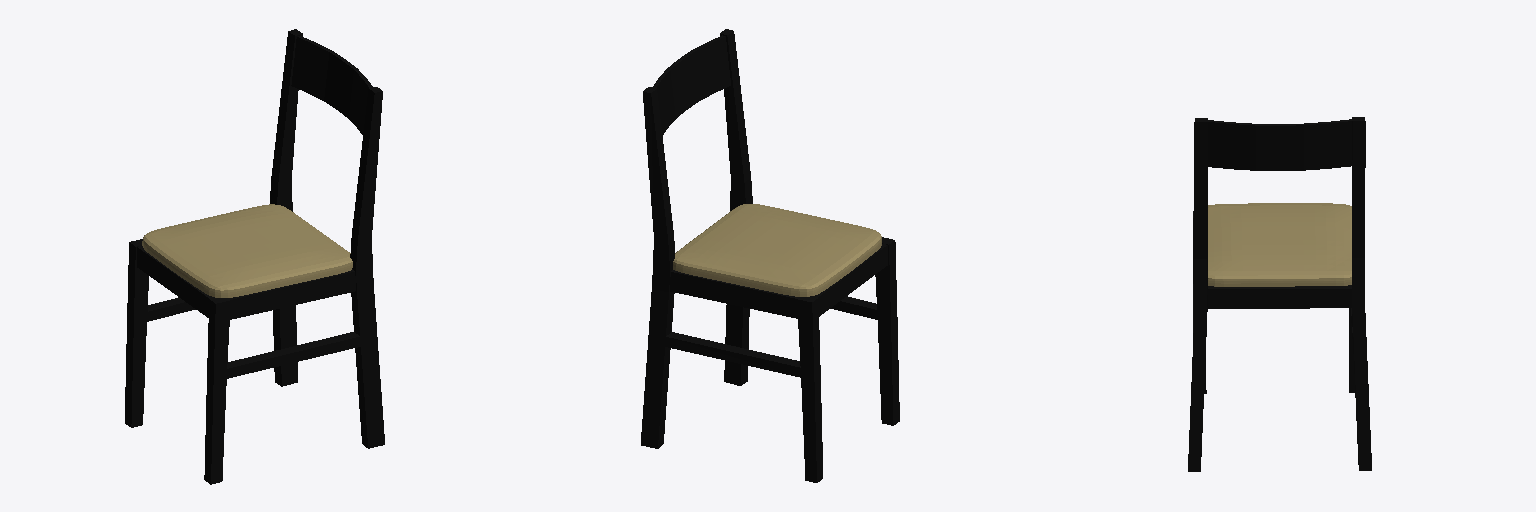
File: chair.obj
The picture shows the model from 3 angles: view 1: azimuth 30°, elevation 25°; view 2: azimuth 150°, elevation 25°; view 3: azimuth 270°, elevation 25°; orthographic projection.
Parts seen in each view (by area): view 1: chair.001_, cus_chair1; view 2: chair.001_, cus_chair1; view 3: chair.001_, cus_chair1.
Boxes of the visible parts, x1,y1,x2,y2 form: chair.001_: [125, 29, 384, 484]; cus_chair1: [142, 204, 352, 297]; chair.001_: [641, 29, 899, 482]; cus_chair1: [673, 204, 881, 296]; chair.001_: [1188, 117, 1371, 471]; cus_chair1: [1208, 203, 1351, 286].
Size of the model in its own units: 0.4741 by 0.8811 by 0.42.